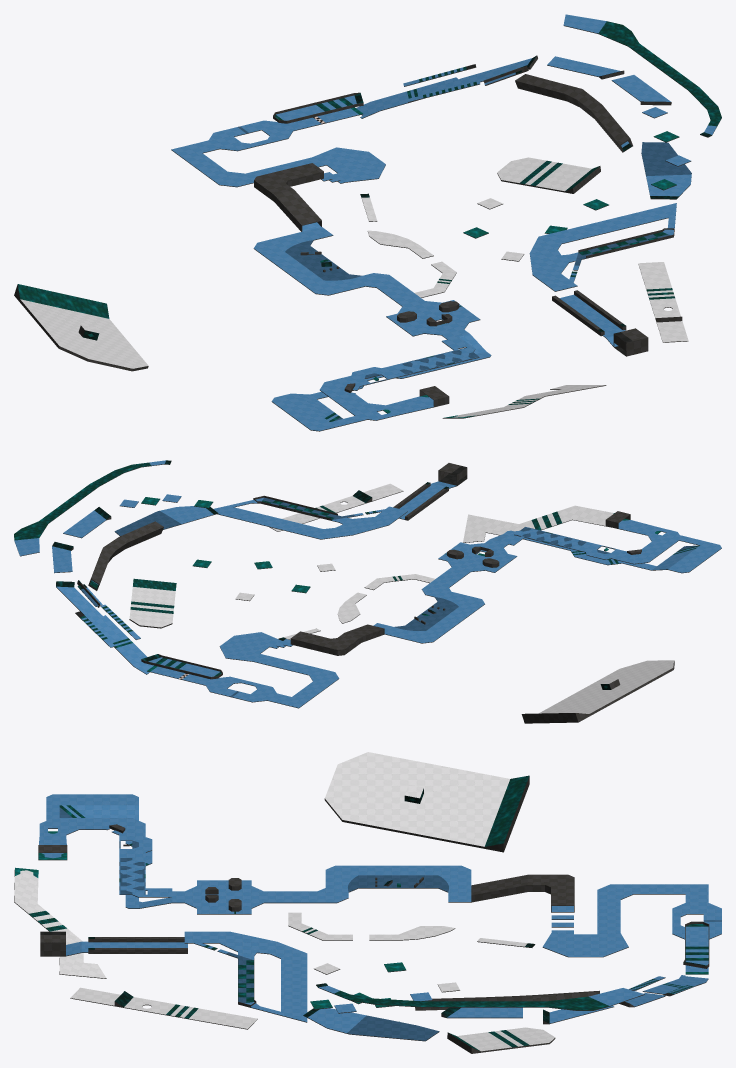
3 views of the same model, one above another, from view 1: azimuth 30°, elevation 25°; view 2: azimuth 150°, elevation 25°; view 3: azimuth 270°, elevation 25° (orthographic). The views are drawn at different scales.
Visible parts, largest first — view 1: track-SKP--Road, track-SKP--Wall2, track-SKP--Wall, track-SKP--Boost, track-SKP--0x0E_Wall, track-SKP--Off_road, track-SKP--Trick_ramp, track-SKP--Road1; view 2: track-SKP--Road, track-SKP--Wall2, track-SKP--Wall, track-SKP--Boost, track-SKP--0x0E_Wall, track-SKP--Off_road, track-SKP--Fast_trick, track-SKP--Trick_ramp, track-SKP--Road1; view 3: track-SKP--Road, track-SKP--Wall2, track-SKP--Wall, track-SKP--Boost, track-SKP--Off_road, track-SKP--0x0E_Wall, track-SKP--Road1, track-SKP--Trick_ramp, track-SKP--Fast_trick.
Part boxes in pixels (left/top/right/bottom): track-SKP--Road: left=171, top=14, right=716, bottom=430; track-SKP--Wall2: left=20, top=157, right=688, bottom=417; track-SKP--Wall: left=14, top=56, right=682, bottom=407; track-SKP--Boost: left=17, top=21, right=721, bottom=421; track-SKP--0x0E_Wall: left=171, top=25, right=721, bottom=431; track-SKP--Off_road: left=238, top=126, right=691, bottom=420; track-SKP--Trick_ramp: left=88, top=107, right=679, bottom=417; track-SKP--Road1: left=301, top=67, right=647, bottom=340; track-SKP--Road: left=14, top=460, right=721, bottom=707; track-SKP--Wall2: left=129, top=483, right=673, bottom=713; track-SKP--Wall: left=56, top=467, right=674, bottom=723; track-SKP--Boost: left=14, top=462, right=699, bottom=676; track-SKP--0x0E_Wall: left=14, top=461, right=721, bottom=708; track-SKP--Off_road: left=81, top=497, right=697, bottom=696; track-SKP--Fast_trick: left=52, top=460, right=610, bottom=689; track-SKP--Trick_ramp: left=141, top=497, right=660, bottom=688; track-SKP--Road1: left=81, top=463, right=498, bottom=622; track-SKP--Road: left=39, top=794, right=721, bottom=1033; track-SKP--Wall2: left=14, top=752, right=554, bottom=1051; track-SKP--Wall: left=38, top=776, right=709, bottom=1053; track-SKP--Boost: left=29, top=775, right=708, bottom=1050; track-SKP--Off_road: left=59, top=807, right=721, bottom=1040; track-SKP--0x0E_Wall: left=14, top=828, right=721, bottom=1041; track-SKP--Road1: left=40, top=877, right=423, bottom=949; track-SKP--Trick_ramp: left=15, top=793, right=708, bottom=1021; track-SKP--Fast_trick: left=88, top=788, right=706, bottom=1023.
Size of the model in its own units: 119890 by 20440 by 106811.
13 materials, 13 textured.
